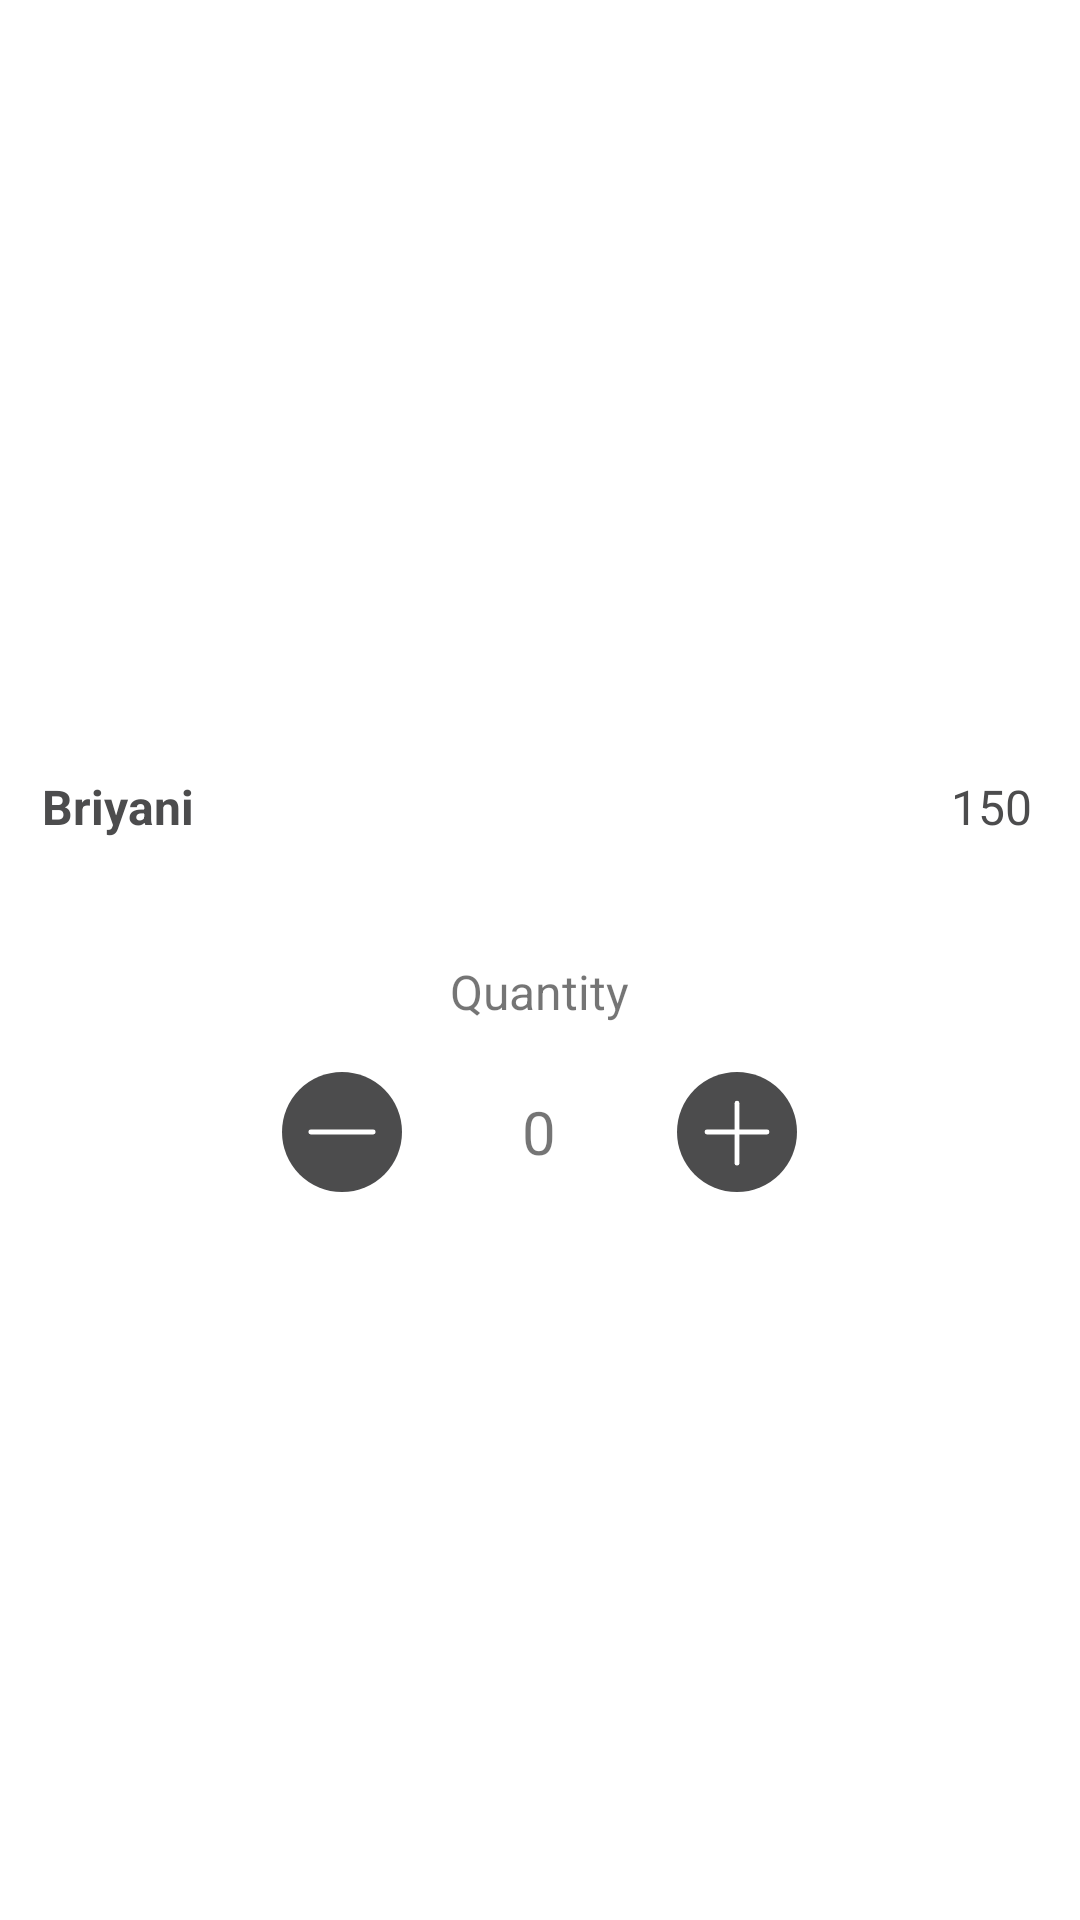

Screen size 1080 x 1920. Icon name, then its center in pixels as [x,y]:
minus: [342,1132]
plus: [737,1132]
